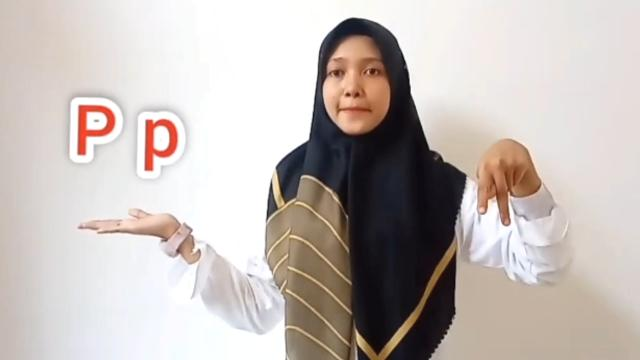P: (474, 134, 536, 229)
